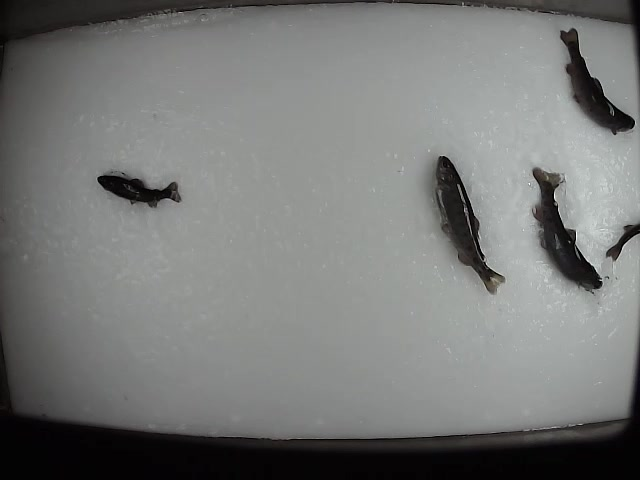Fish: (435, 156, 505, 295), (533, 166, 602, 293), (560, 28, 635, 136), (98, 175, 182, 207)
